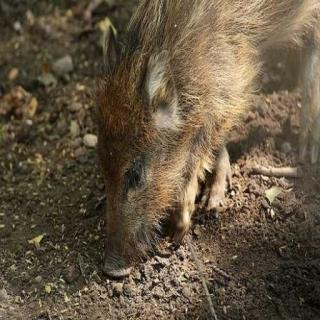Pig: (53, 0, 320, 293)
